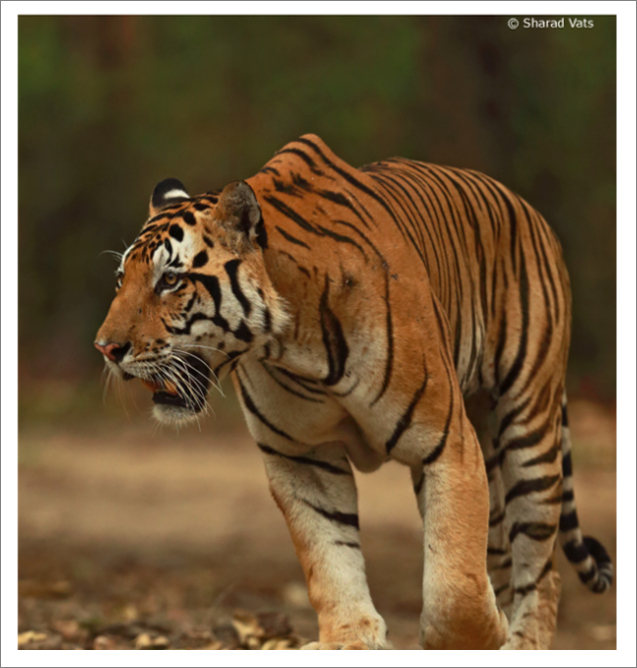Tiger: (85, 136, 619, 650)
